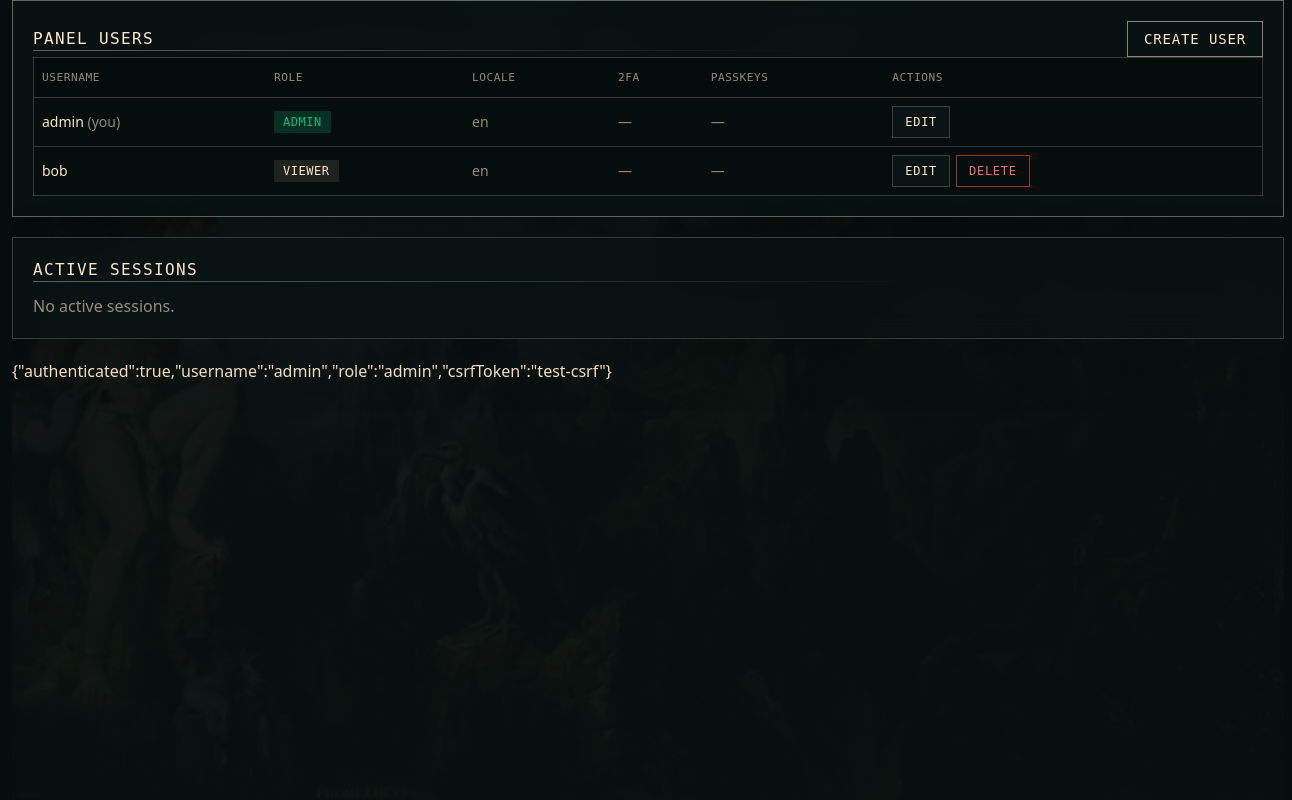
Scenario: UsersPage errors › says the user's sessions were revoked after a successful update
This screenshot has width=1292, height=800.
Click the button "Edit" in the row of "bob" at (921, 171), box [892,155,950,187]
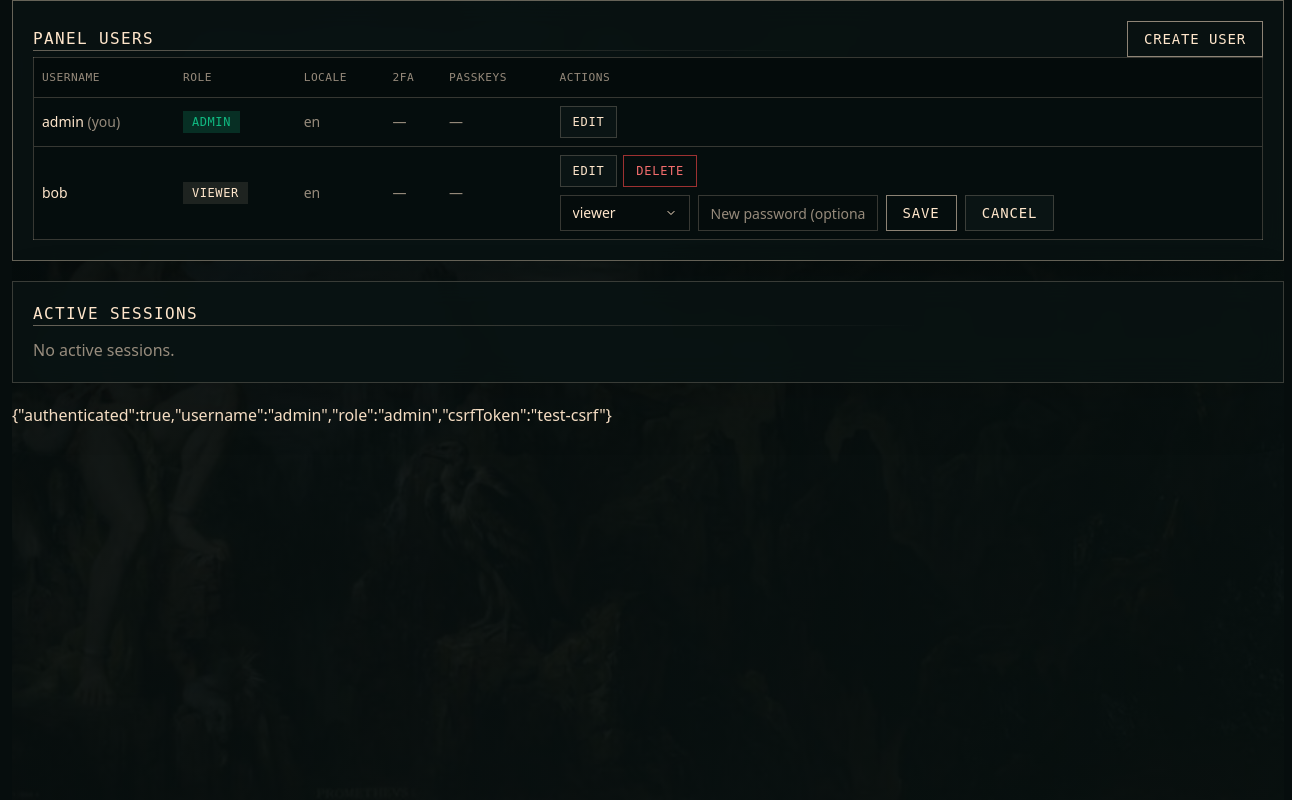
Type "new-secret-pass-1" into the password field labelled "New password (optional)" at (788, 213), box [698,195,878,231]
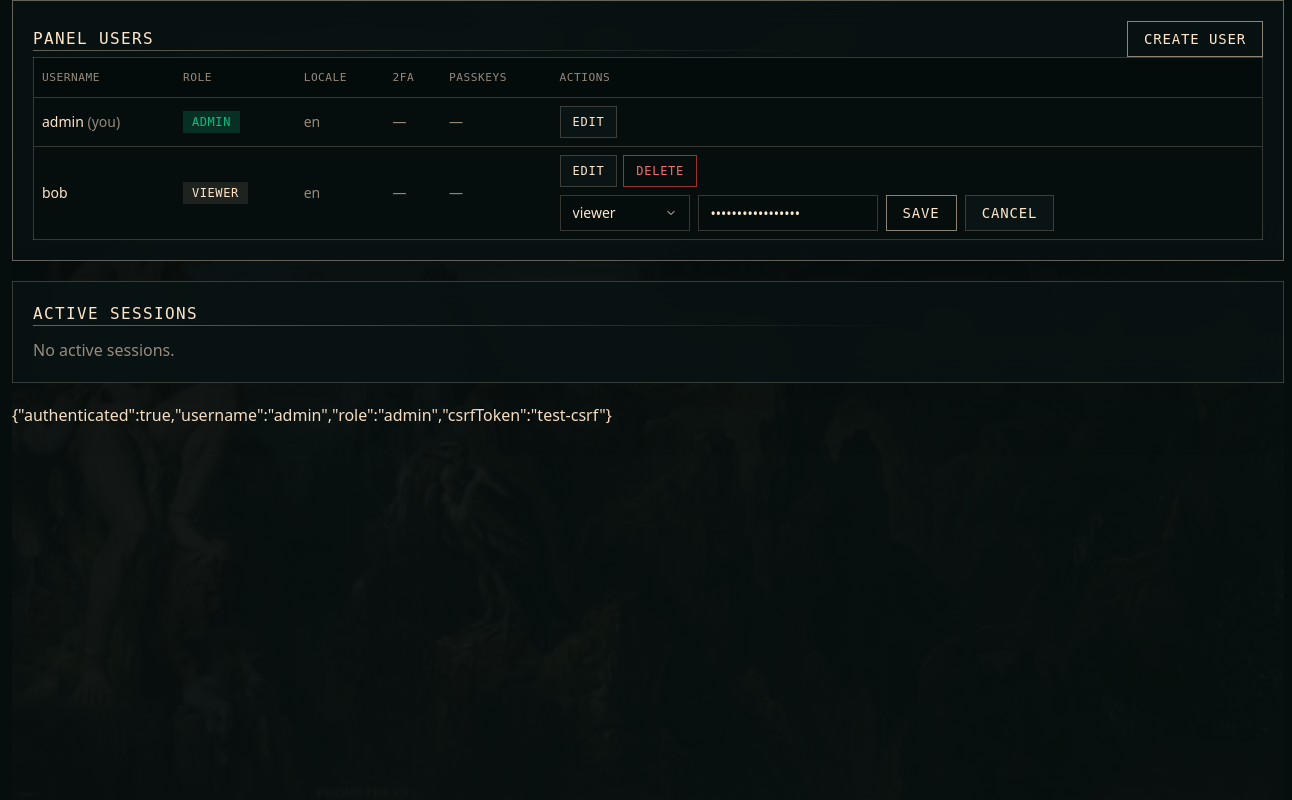
Click the button "Save" at (921, 213), box [886,195,957,231]
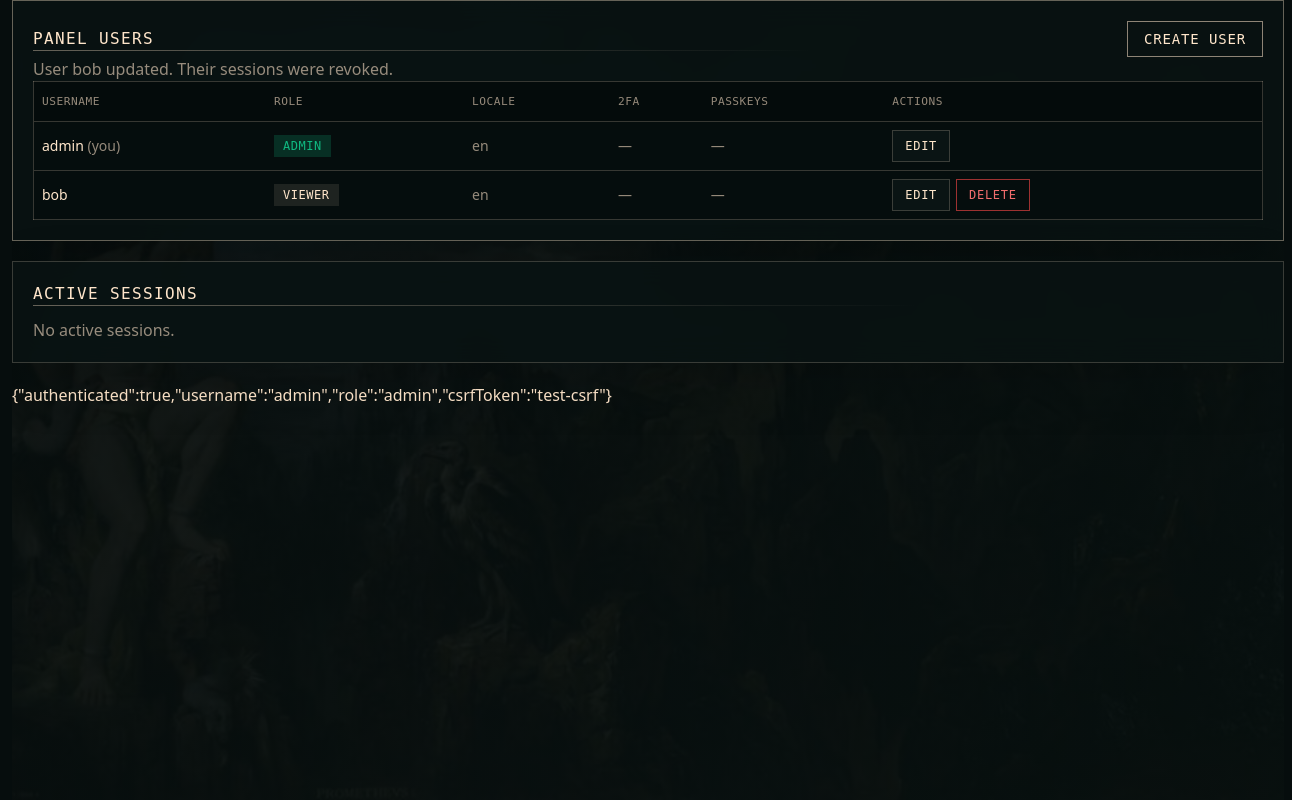
Check: the text "User bob updated. Their sessions were revoked." is shown, box [33,58,393,80]
